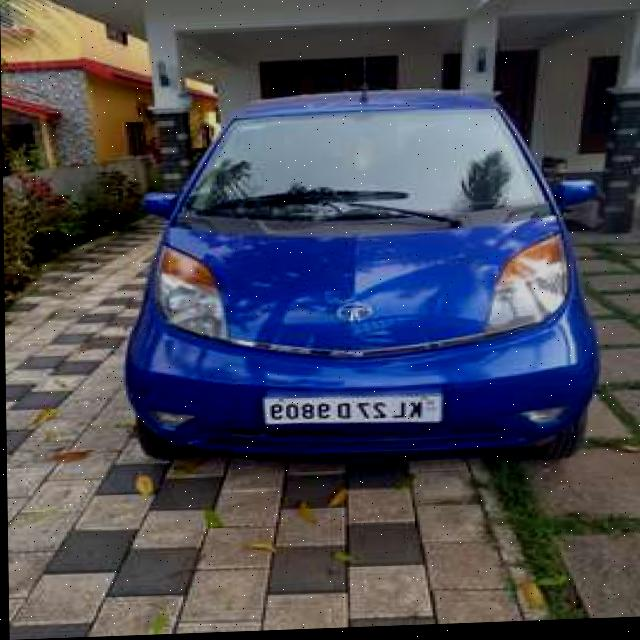plate: (260, 393, 443, 433)
